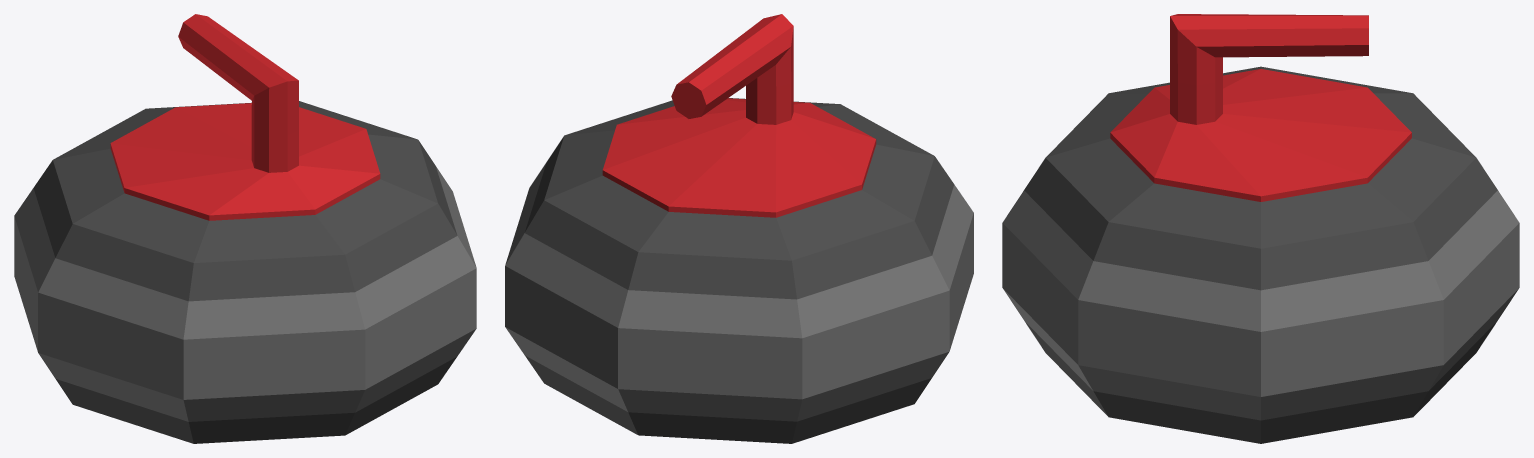
Rendered from Curling Stone.fbx.
3 renders of one model, left to right at view 1: azimuth 30°, elevation 25°; view 2: azimuth 150°, elevation 25°; view 3: azimuth 270°, elevation 25°, orthographic. The views are drawn at different scales.
Visible parts, largest first — view 1: Curling Stone; view 2: Curling Stone; view 3: Curling Stone.
Part boxes in pixels (left/top/right/bottom): Curling Stone: left=14, top=14, right=476, bottom=443; Curling Stone: left=505, top=14, right=973, bottom=443; Curling Stone: left=1002, top=14, right=1519, bottom=443.
Bounding box in the file's own units: 240 × 182 × 240.
